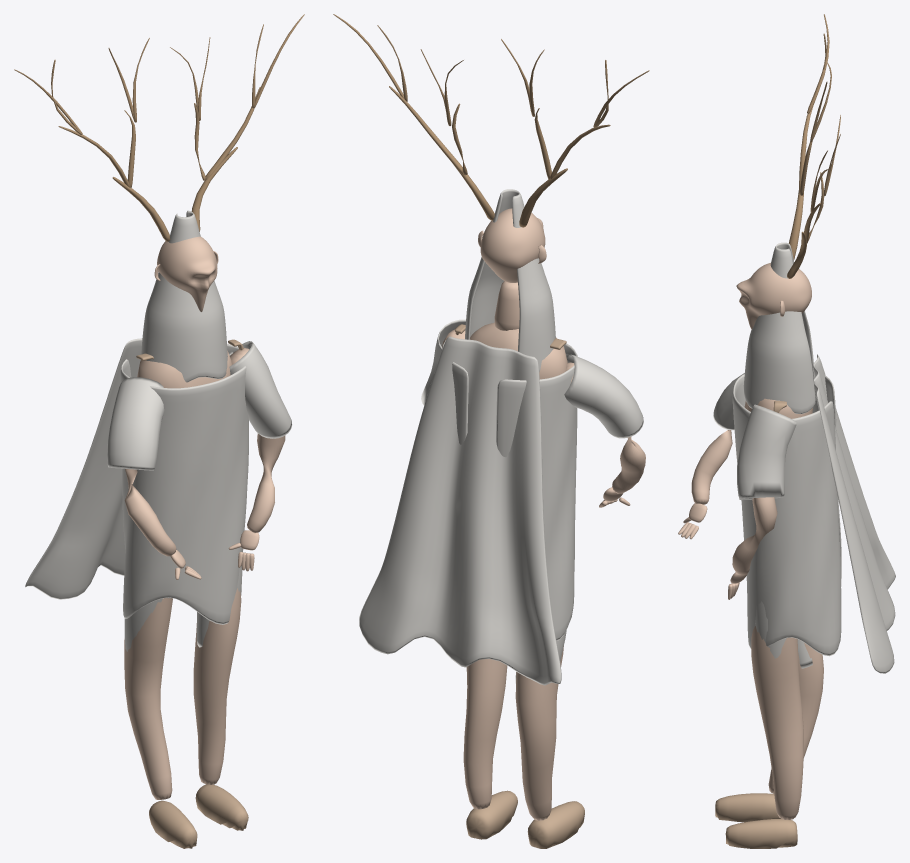
File: grove_skirmisher.glb
3 renders of one model, left to right at view 1: azimuth 30°, elevation 25°; view 2: azimuth 150°, elevation 25°; view 3: azimuth 270°, elevation 25°, orthographic. The views are drawn at different scales.
Parts seen in each view (by area): view 1: Robe, Cape, Hood, LegR, LegL, SleeveR, SleeveL, Head, ArmL, ArmR, BootL, BootR (+3 smaller); view 2: Cape, Robe, Hood, LegL, LegR, SleeveR, Head, BootR, BootL, Body, ArmR, Neck (+1 smaller); view 3: Robe, Cape, Hood, LegL, SleeveL, Head, BootL, LegR, BootR, ArmL, ArmR, SleeveR (+2 smaller).
Boxes of the visible parts, x1,y1,x2,y2 form: Robe: (120,344,248,624); Cape: (25,338,142,599); Hood: (141,210,227,382); LegR: (124,597,172,799); LegL: (193,588,241,784); SleeveR: (107,377,164,470); SleeveL: (229,341,292,438); Head: (157,236,217,311); ArmL: (230,348,285,532); ArmR: (124,469,176,556); BootL: (195,784,248,830); BootR: (149,800,197,848); Cape: (359,336,561,685); Robe: (442,340,577,640); Hood: (465,189,555,371); LegL: (463,659,507,809); LegR: (515,646,563,820); SleeveR: (564,354,643,438); Head: (480,208,545,282); BootR: (527,801,584,848); BootL: (466,790,517,839); Body: (470,322,567,379); ArmR: (565,362,645,493); Neck: (494,281,519,330); Robe: (732,374,841,656); Cape: (813,354,895,673); Hood: (743,242,815,414); LegL: (751,626,803,819); SleeveL: (737,404,796,499); Head: (736,263,811,329); BootL: (725,819,797,848); LegR: (768,640,823,793); BootR: (715,793,780,822); ArmL: (732,497,777,574); ArmR: (691,430,732,504); SleeveR: (713,373,744,430).
Size of the model in its own units: 0.958 by 2.4 by 0.6364.
